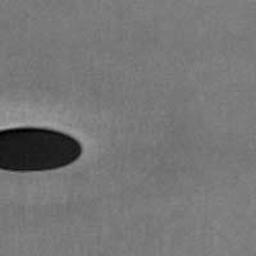Punching: (0, 124, 83, 174)
